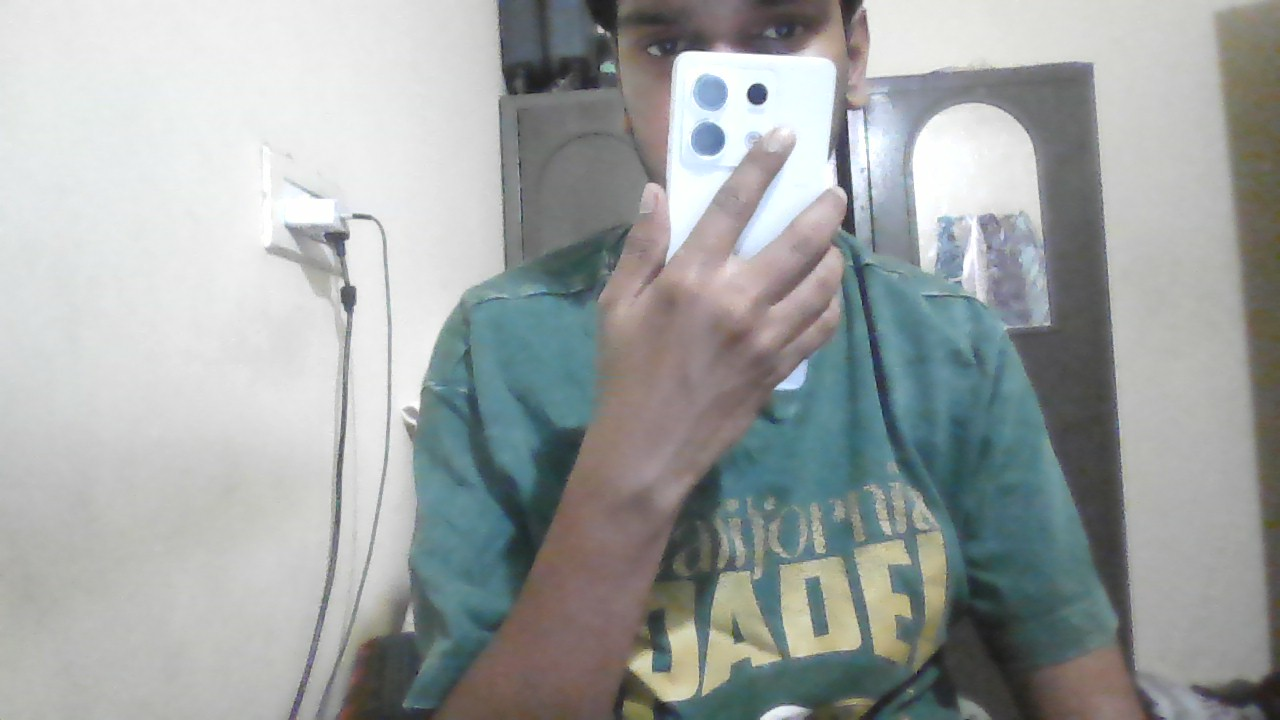phone: (667, 50, 838, 180)
